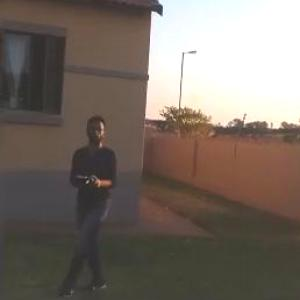follow: (55, 112, 121, 298)
